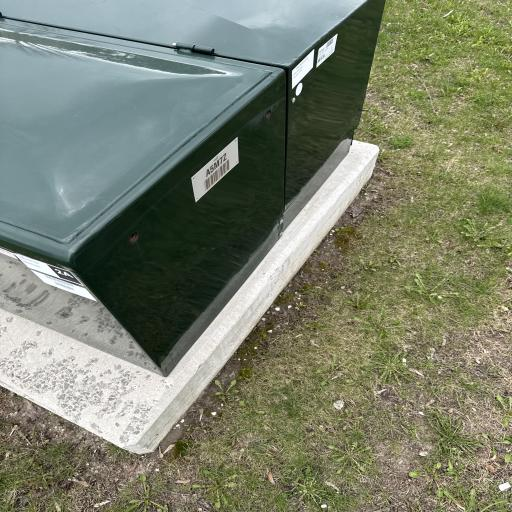Electrical Box: (0, 1, 392, 377)
